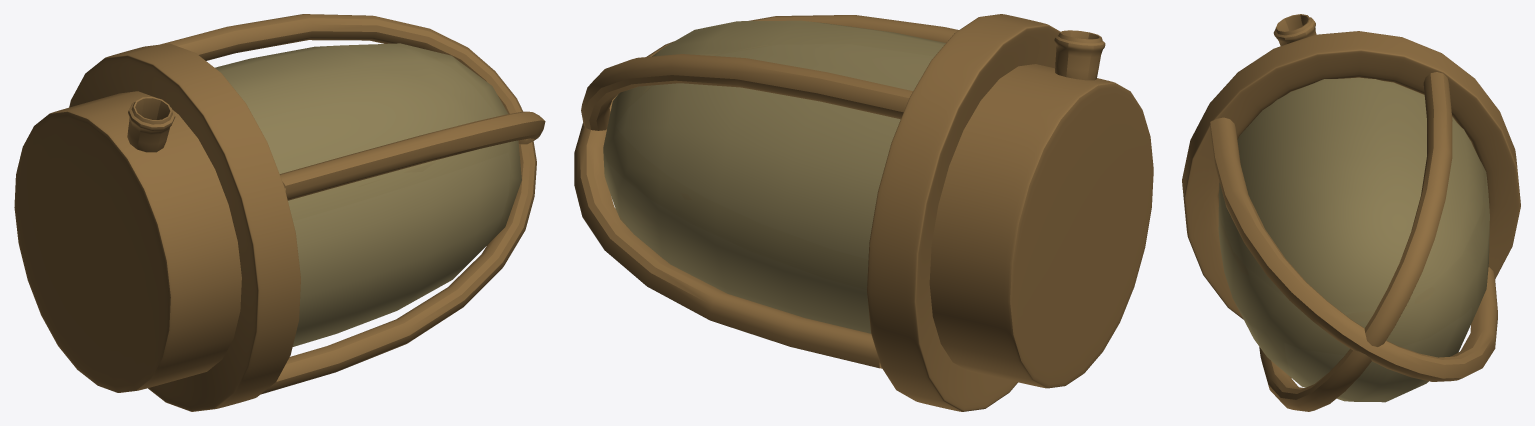
File: SubLamp.fbx
3 renders of one model, left to right at view 1: azimuth 30°, elevation 25°; view 2: azimuth 150°, elevation 25°; view 3: azimuth 270°, elevation 25°, orthographic. The views are drawn at different scales.
Parts seen in each view (by area): view 1: Lamp, LightBulb; view 2: Lamp, LightBulb; view 3: LightBulb, Lamp.
Boxes of the visible parts, box(x1,y1,x2,y2) form: Lamp: box(14, 14, 545, 411); LightBulb: box(215, 43, 521, 346); Lamp: box(574, 14, 1153, 411); LightBulb: box(603, 20, 945, 333); LightBulb: box(1218, 77, 1489, 402); Lamp: box(1182, 14, 1520, 411).
Size of the model in its own units: 13 by 9.05 by 9.11.
